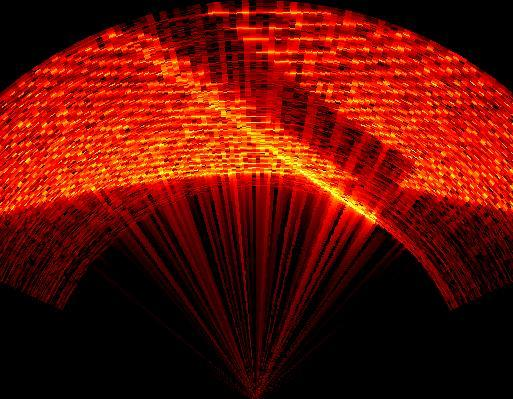pipe: (124, 5, 416, 210)
